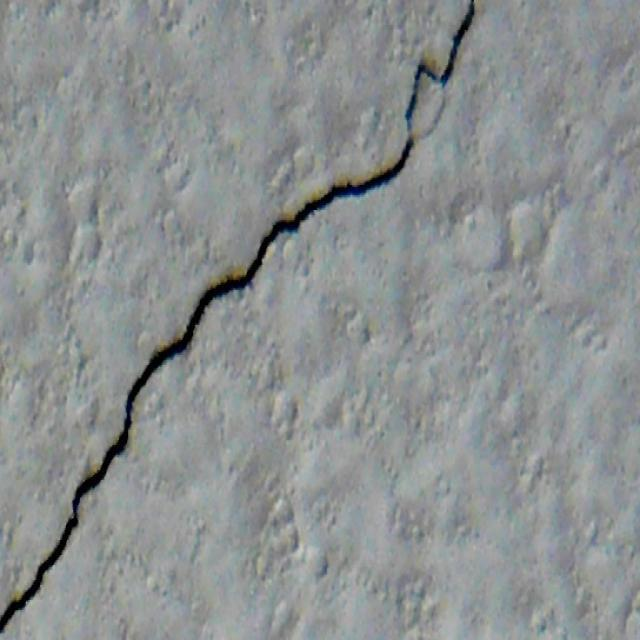Annular: (397, 53, 460, 148)
Diagonal: (0, 149, 411, 638), (452, 4, 494, 53)
